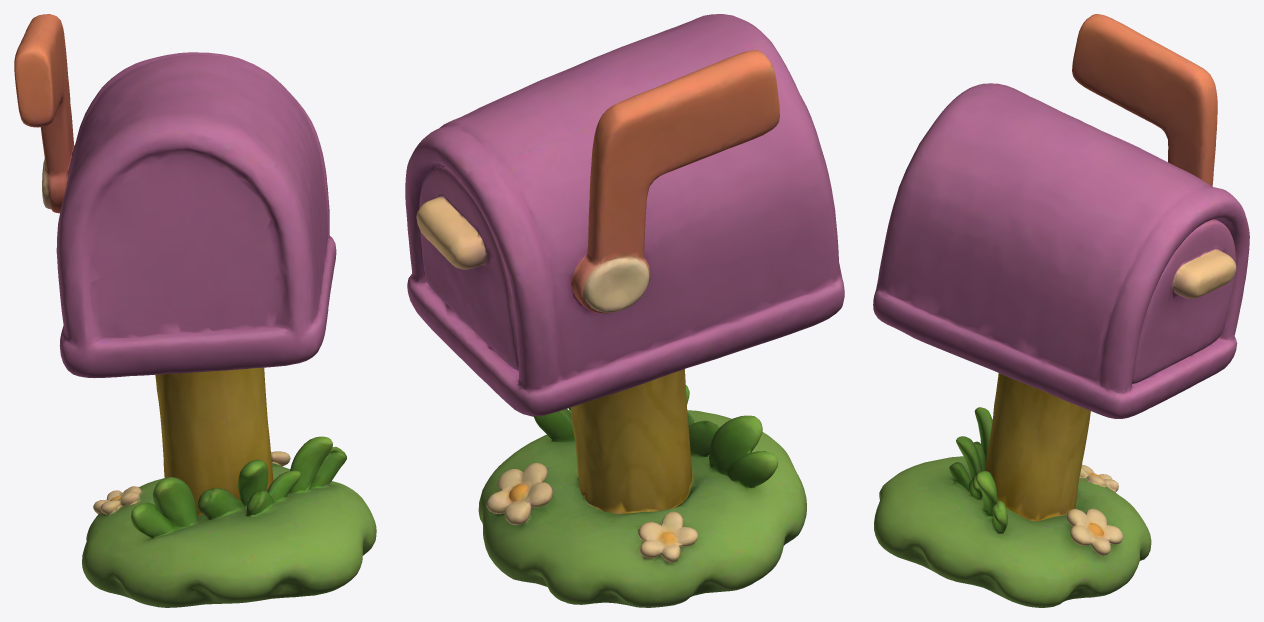
File: item_mailbox.glb
The picture shows the model from 3 angles, left to right: view 1: azimuth 30°, elevation 25°; view 2: azimuth 150°, elevation 25°; view 3: azimuth 270°, elevation 25°; orthographic projection. The views are drawn at different scales.
Parts seen in each view (by area): view 1: geometry_0; view 2: geometry_0; view 3: geometry_0.
Part boxes in pixels (x1,y1,x2,y2): geometry_0: [14, 14, 376, 607]; geometry_0: [405, 14, 844, 607]; geometry_0: [873, 14, 1249, 607].
Size of the model in its own units: 0.5749 by 0.876 by 0.6212.
Materials: 1 (1 with a texture image).
